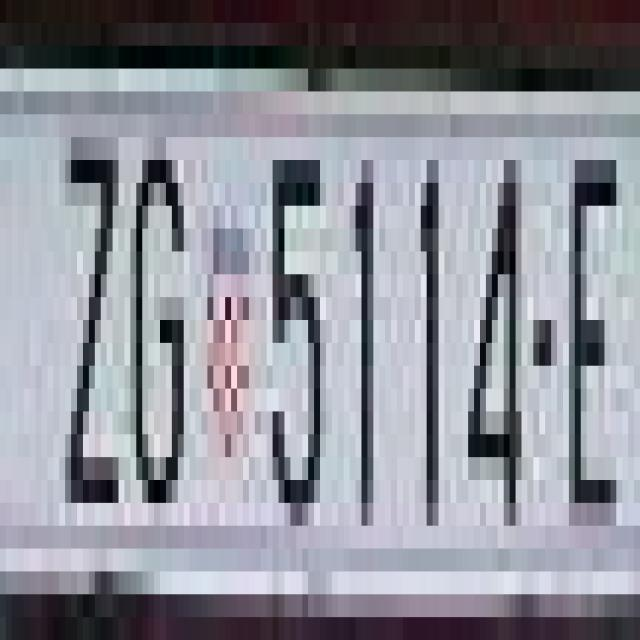1: (338, 114, 379, 526), (409, 114, 444, 549)
4: (457, 91, 528, 572)
5: (261, 114, 326, 526)
E: (563, 114, 628, 526)
G: (124, 137, 190, 503)
Z: (59, 114, 124, 503)
